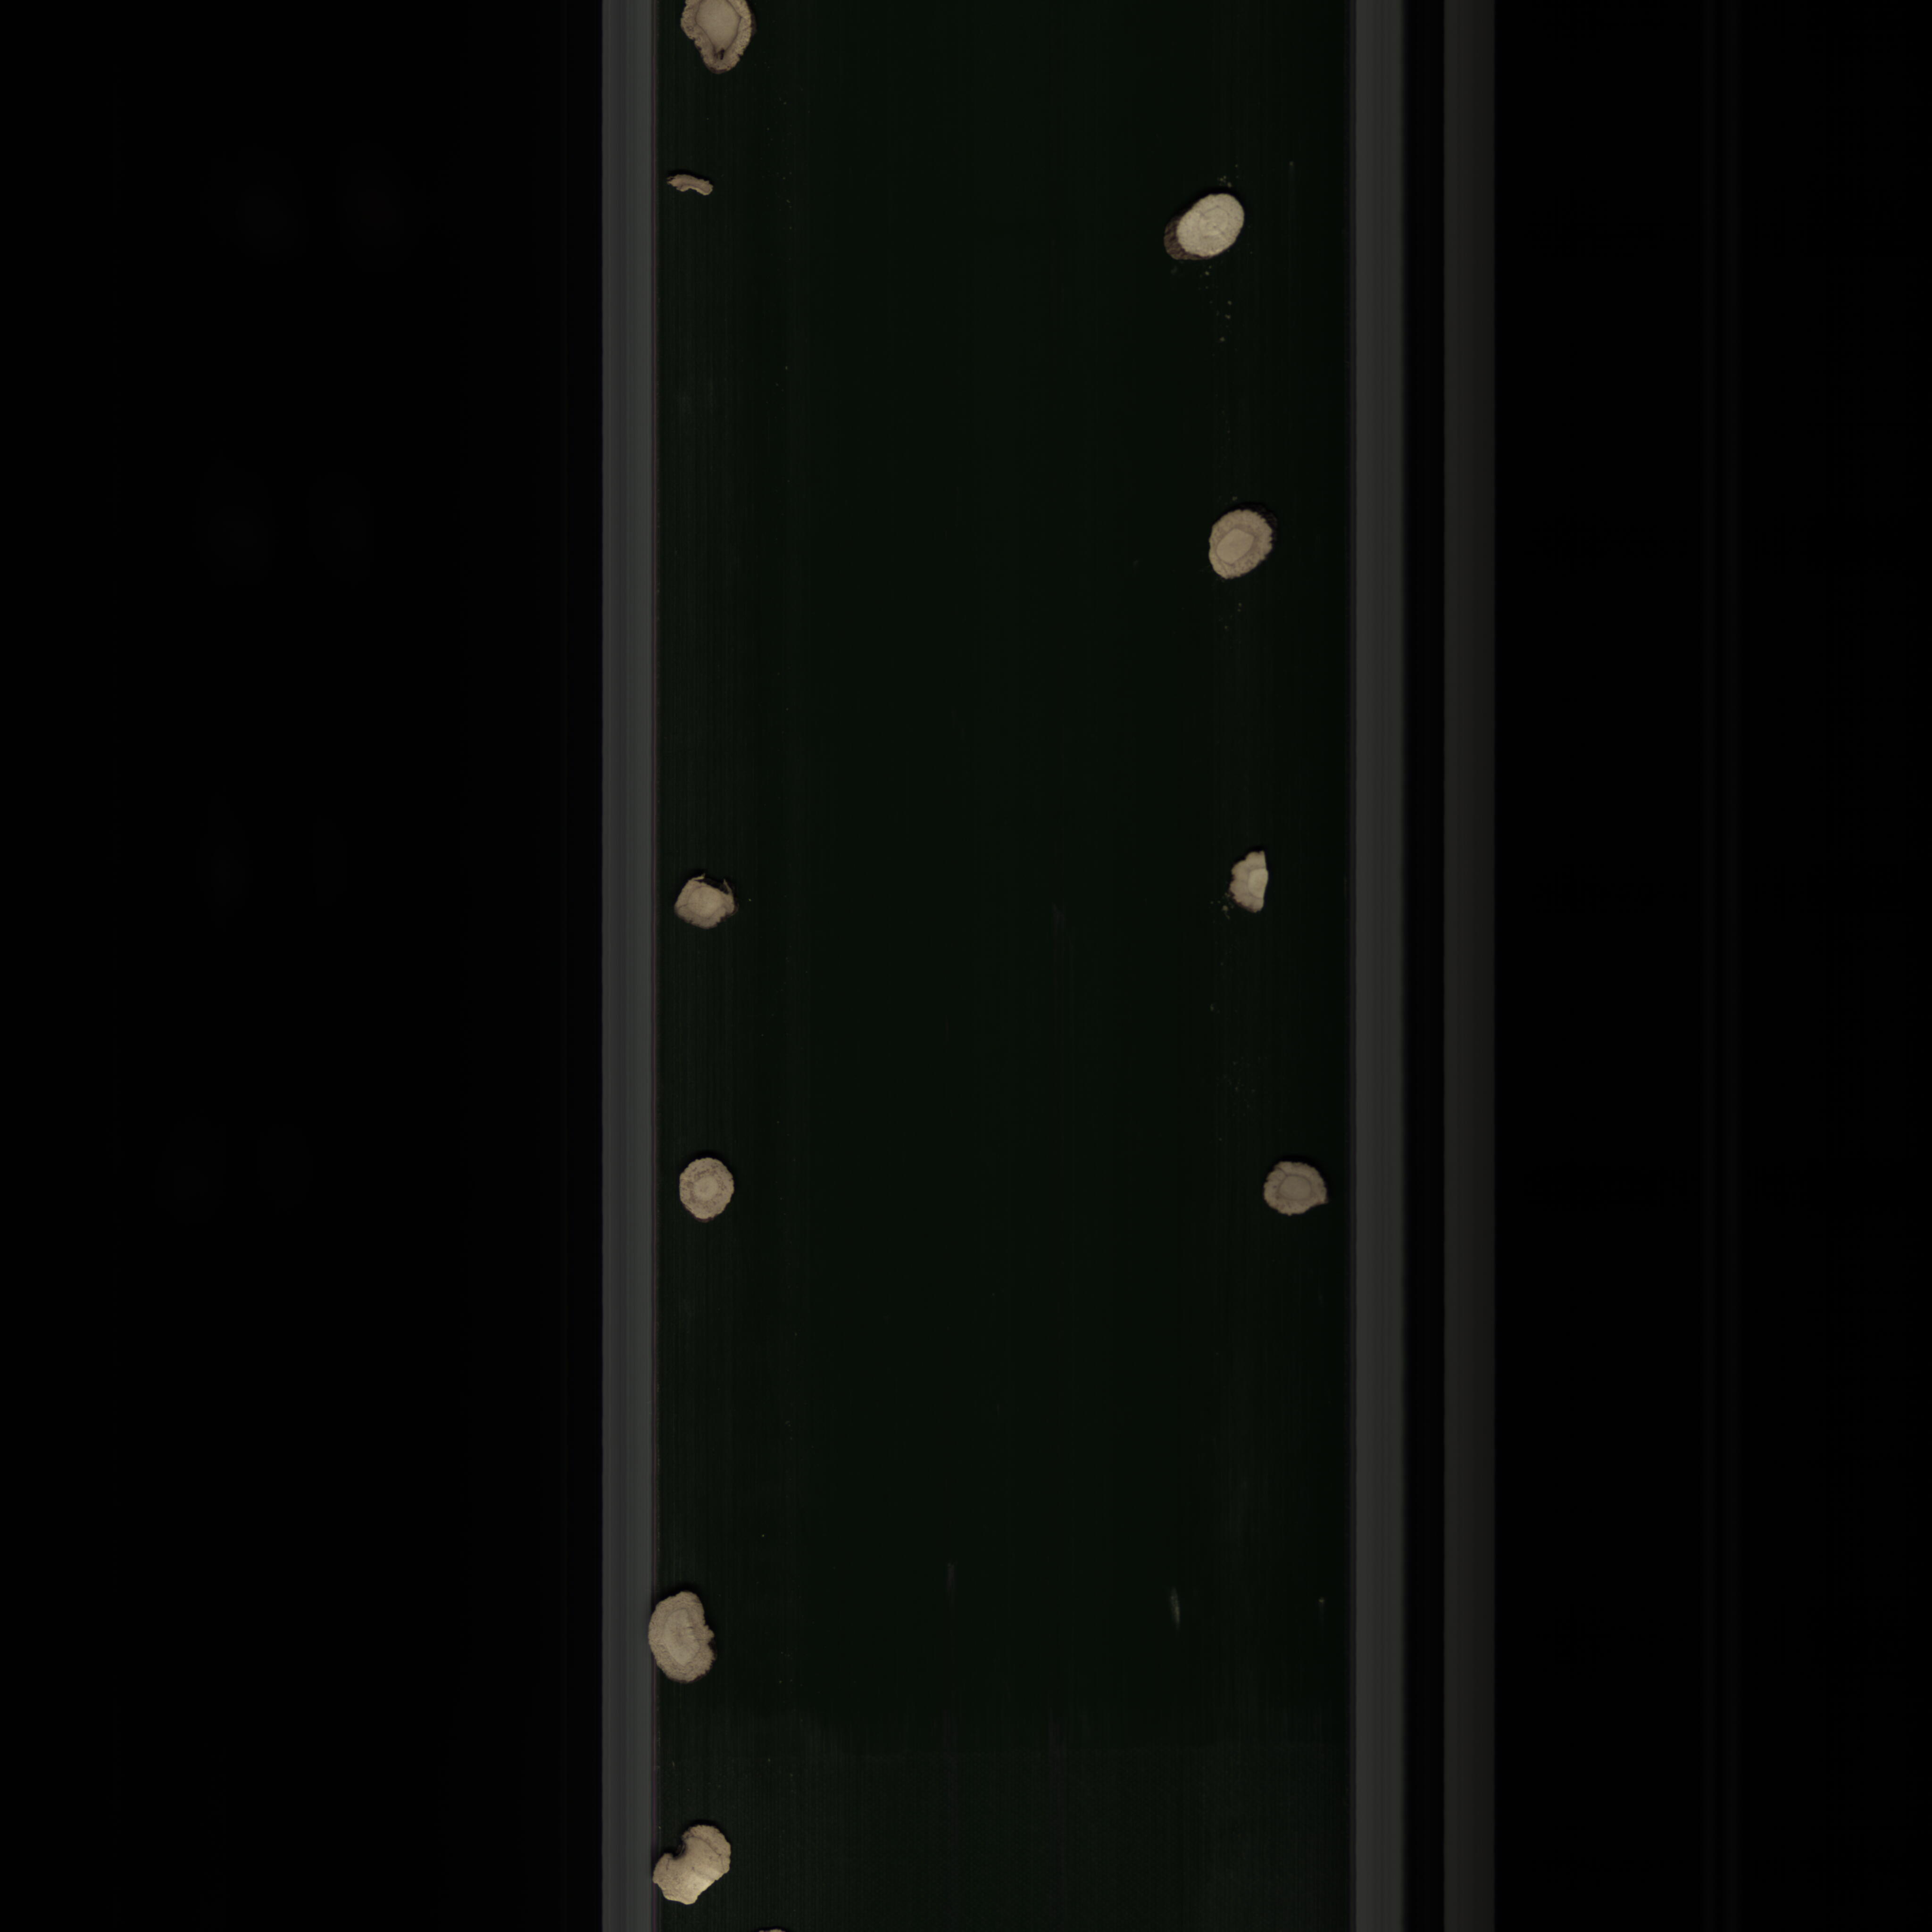bark: (656, 166, 725, 203)
debris: (644, 1822, 732, 1911), (672, 863, 736, 939), (1228, 842, 1270, 918)
moldy: (663, 0, 757, 81)
